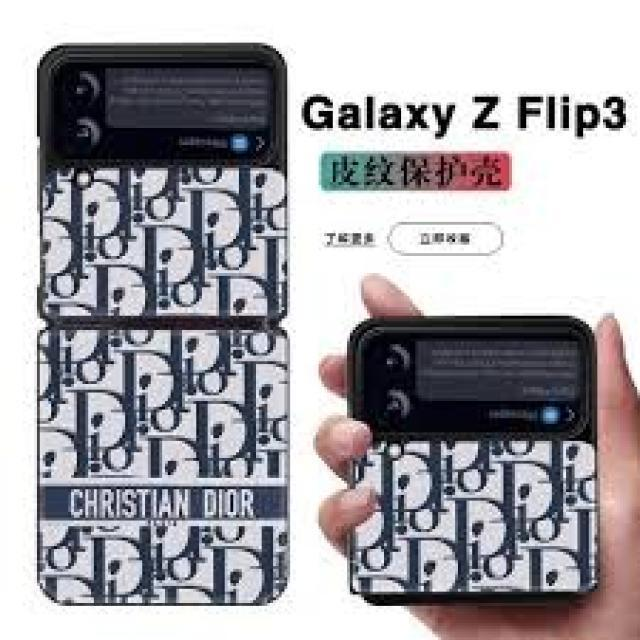phone: (31, 38, 297, 614)
